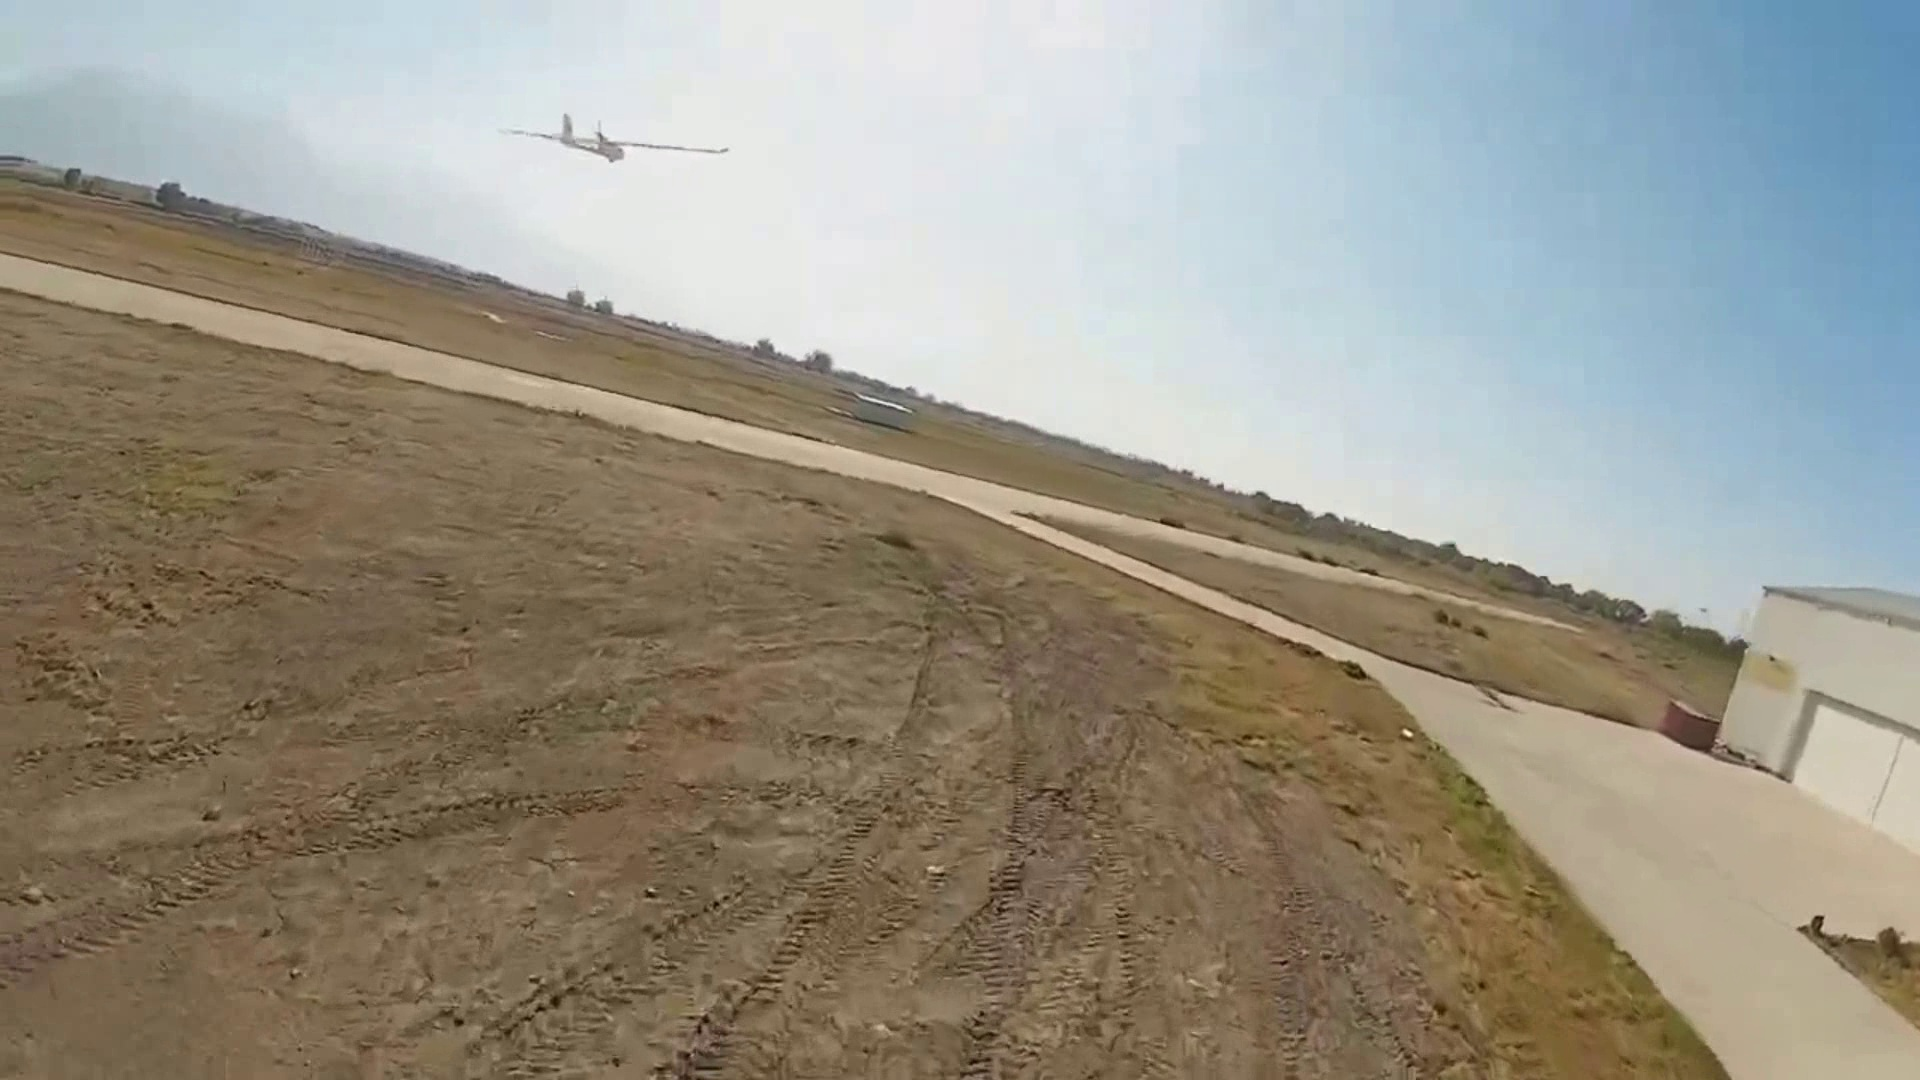airplane: (497, 112, 732, 166)
